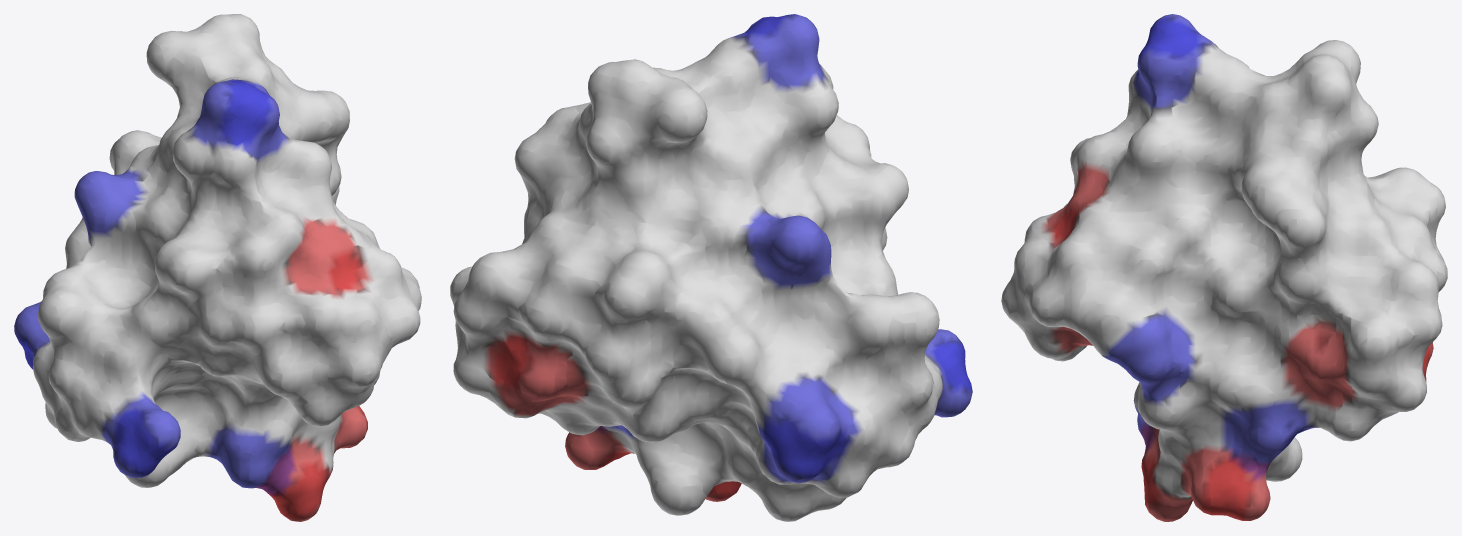
File: 1OHZ_B_se_1.fbx
3 views of the same model, side by side, from view 1: azimuth 30°, elevation 25°; view 2: azimuth 150°, elevation 25°; view 3: azimuth 270°, elevation 25° (orthographic). The views are drawn at different scales.
Parts seen in each view (by area): view 1: Cube; view 2: Cube; view 3: Cube.
Part boxes in pixels (<box>): Cube: <box>14,14,421,521</box>; Cube: <box>450,14,972,521</box>; Cube: <box>1001,14,1447,521</box>.
Size of the model in its own units: 2796 by 3317 by 2869.
